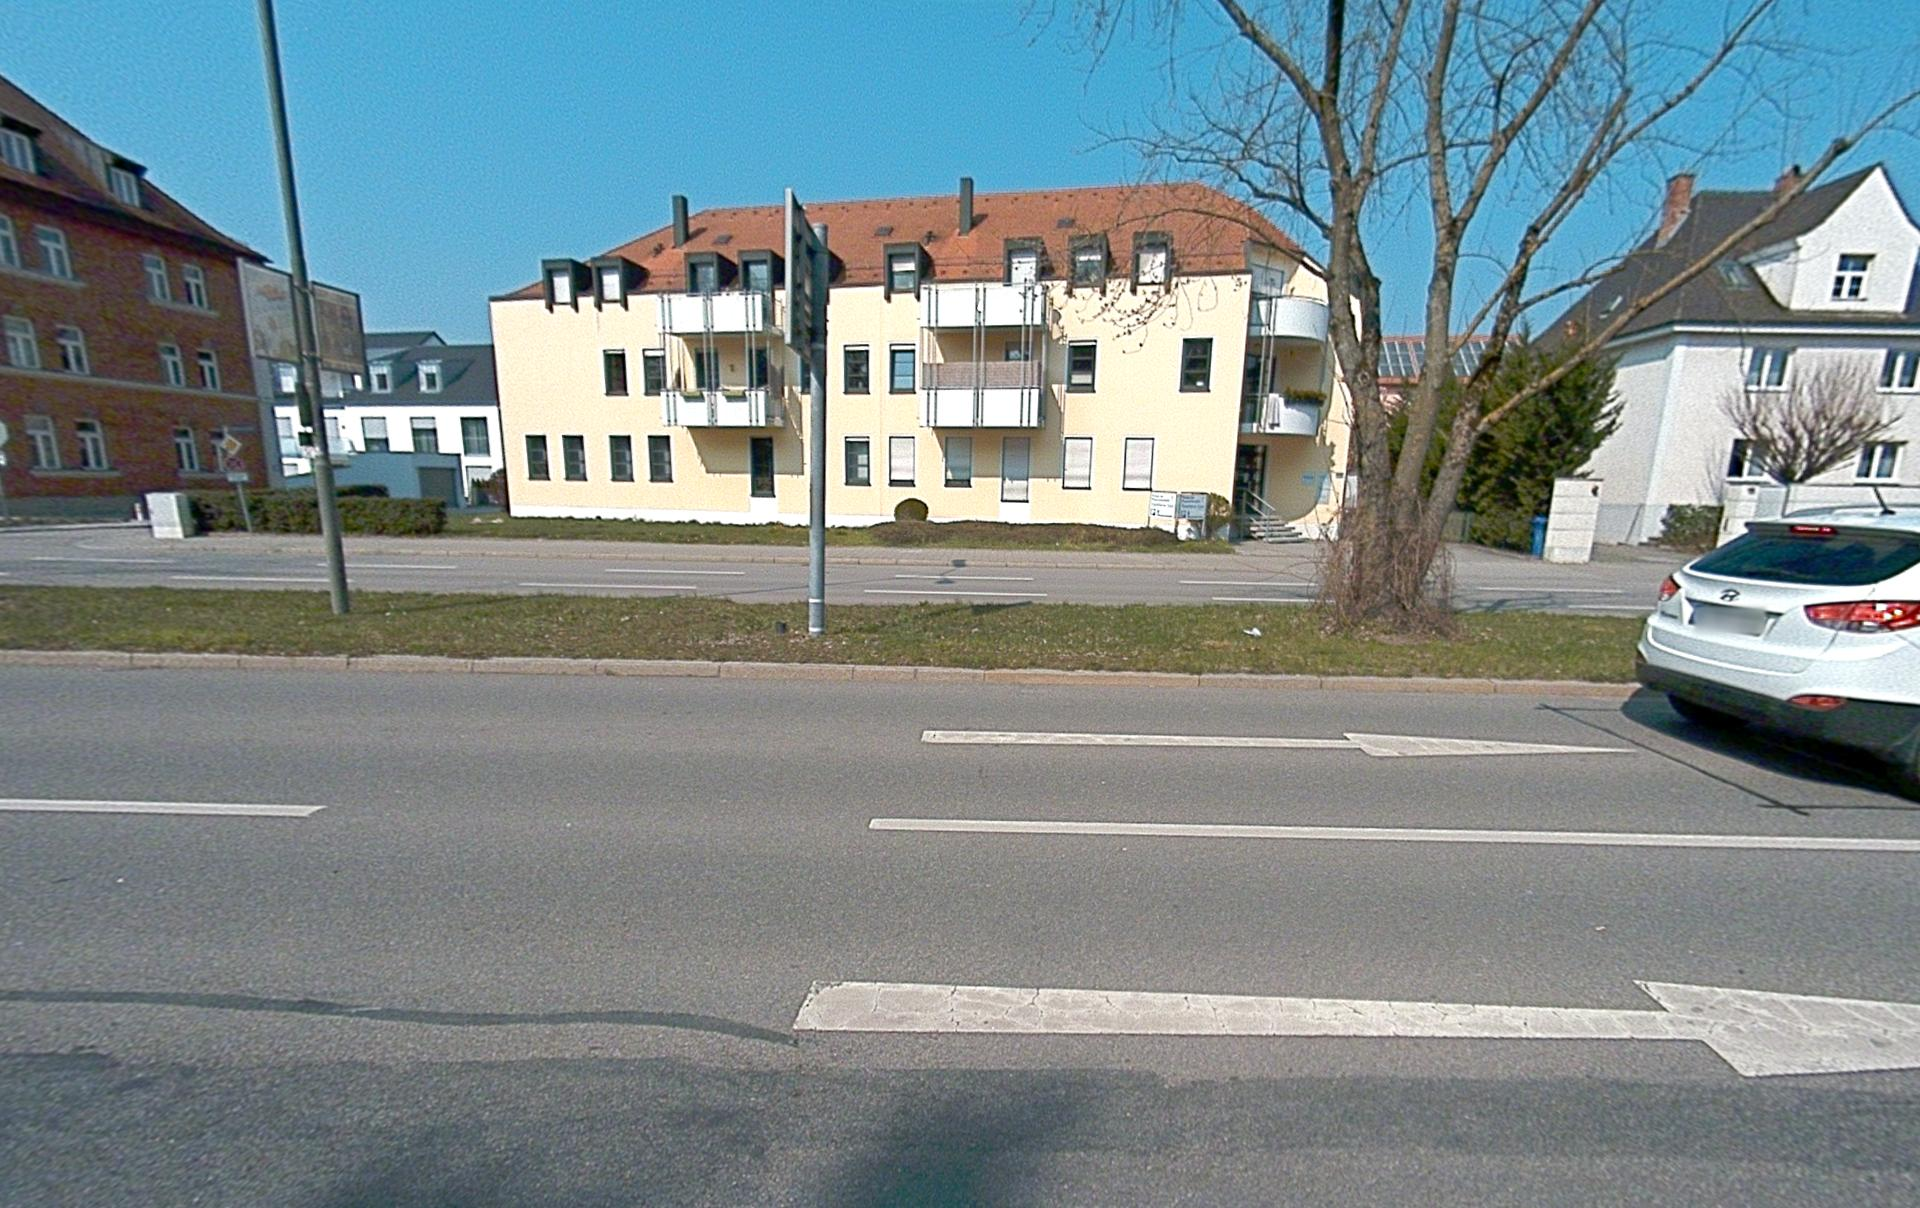car: (1635, 501, 1920, 795)
traffic sign: (785, 189, 829, 358)
